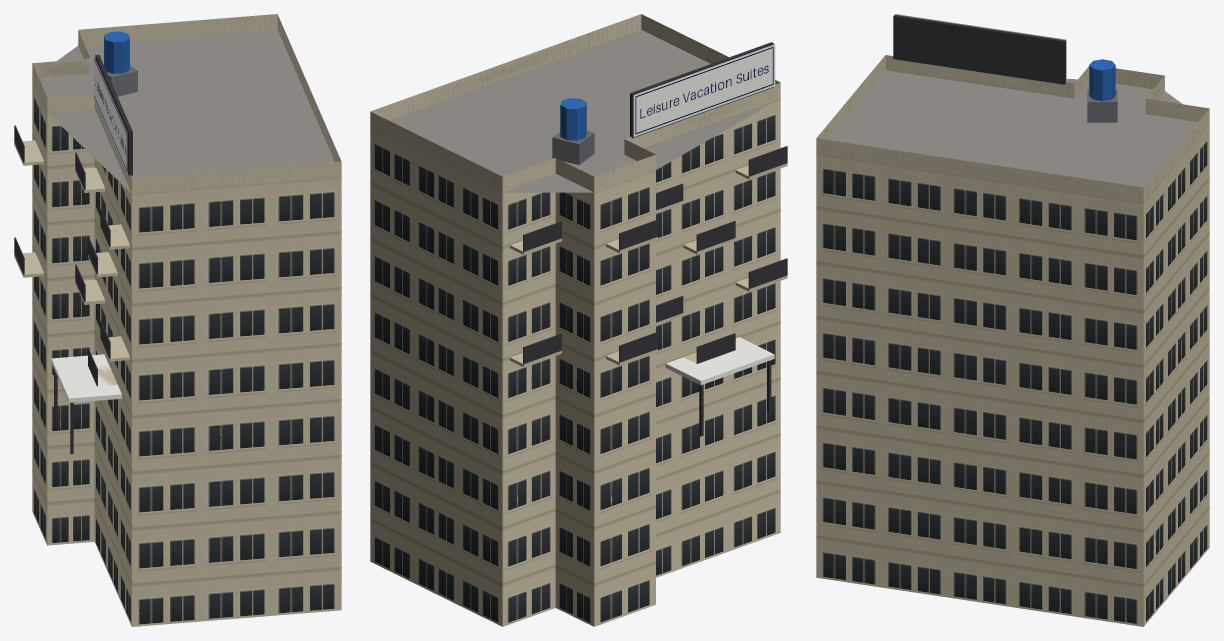
The model's file is hotels-27355-14866.326480ea.glb.
The picture shows the model from 3 angles, left to right: view 1: azimuth 30°, elevation 25°; view 2: azimuth 150°, elevation 25°; view 3: azimuth 270°, elevation 25°; orthographic projection. The views are drawn at different scales.
Size of the model in its own units: 18.3 by 28.06 by 20.81.
Materials: 4 (2 with a texture image).
